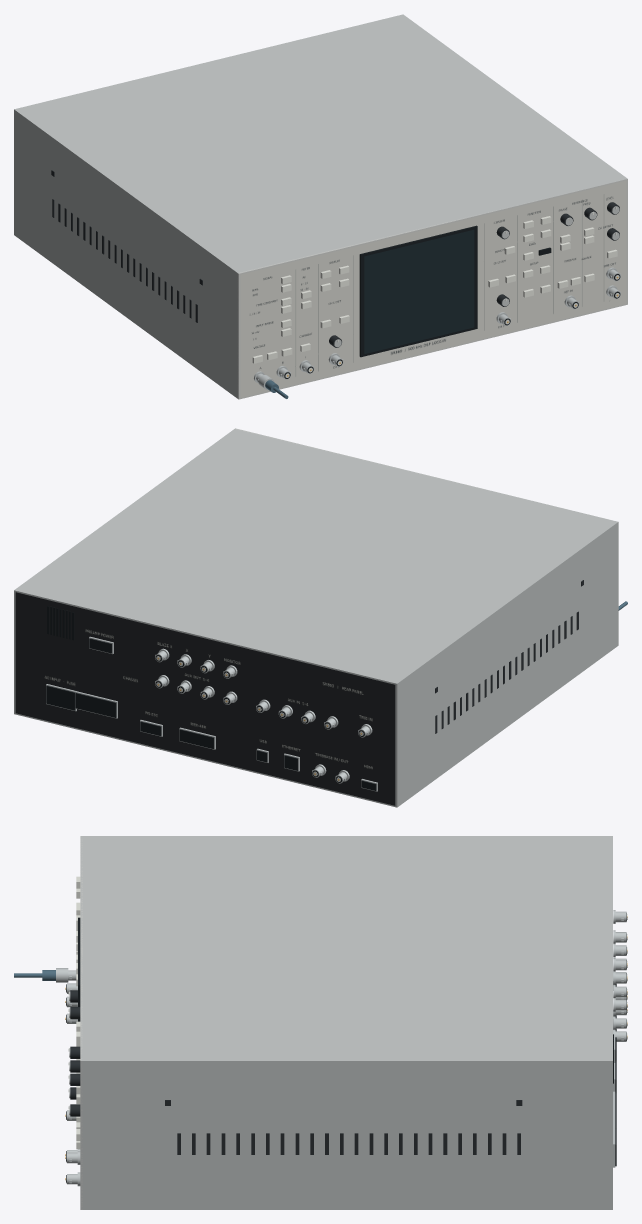
3 renders of one model, top to bottom at view 1: azimuth 30°, elevation 25°; view 2: azimuth 150°, elevation 25°; view 3: azimuth 270°, elevation 25°, orthographic. The views are drawn at different scales.
Visible parts, largest first — view 1: Enclosure_17in, Front_original_legends, Screen_active, Front_edge, Screen_bezel; view 2: Enclosure_17in, Rear_original_legends, Rear_fuse, Rear_IEC; view 3: Enclosure_17in, Front_edge.
Boxes of the visible parts, left/top/right/bottom form: Enclosure_17in: left=14, top=14, right=627, bottom=398; Front_original_legends: left=240, top=181, right=626, bottom=397; Screen_active: left=364, top=229, right=474, bottom=353; Front_edge: left=237, top=179, right=627, bottom=399; Screen_bezel: left=359, top=225, right=477, bottom=357; Enclosure_17in: left=14, top=428, right=618, bottom=807; Rear_original_legends: left=15, top=592, right=395, bottom=805; Rear_fuse: left=75, top=693, right=116, bottom=717; Rear_IEC: left=46, top=686, right=75, bottom=710; Enclosure_17in: left=80, top=836, right=612, bottom=1209; Front_edge: left=80, top=836, right=82, bottom=1209.
Bounding box in the file's own units: 0.4334 × 0.1434 × 0.4981.
Materials: 11 (2 with a texture image).
